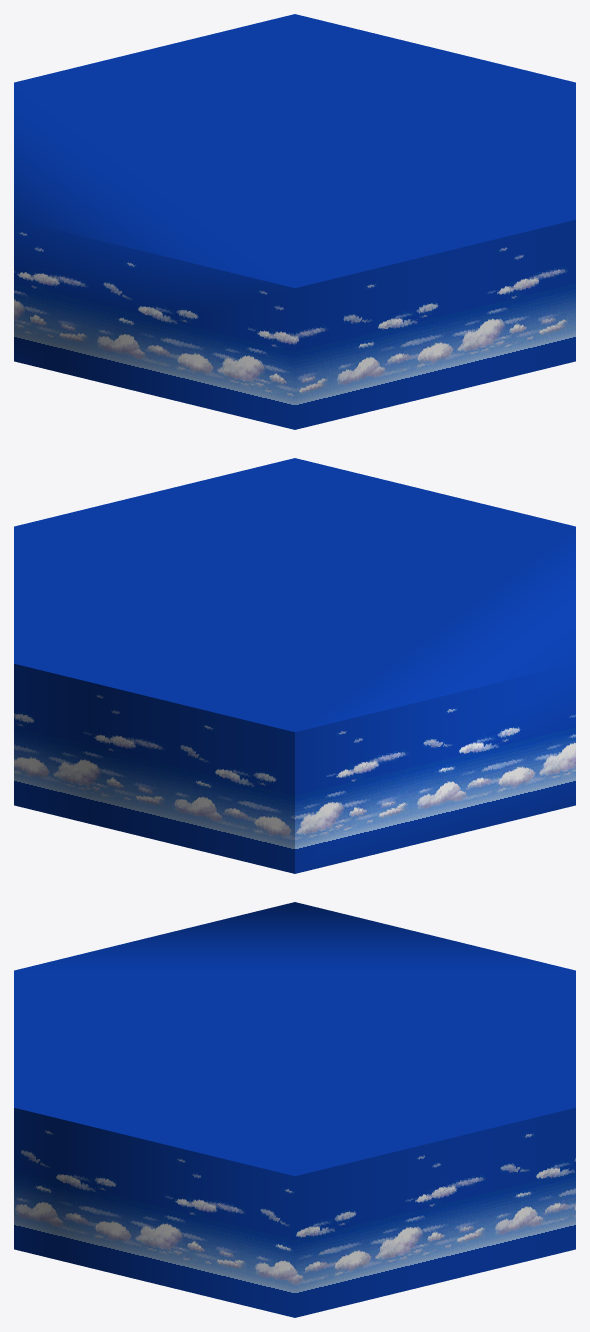
The model's file is PeachGarden.glb.
3 views of the same model, one above another, from view 1: azimuth 30°, elevation 25°; view 2: azimuth 150°, elevation 25°; view 3: azimuth 270°, elevation 25° (orthographic).
Parts seen in each view (by area): view 1: PeachGarden; view 2: PeachGarden; view 3: PeachGarden.
Boxes of the visible parts, box(x1,y1,x2,y2) form: PeachGarden: box(14, 14, 575, 429); PeachGarden: box(14, 458, 575, 873); PeachGarden: box(14, 902, 575, 1317).
Bounding box in the file's own units: 1667 × 402 × 1444.
Materials: 28 (28 with a texture image).
